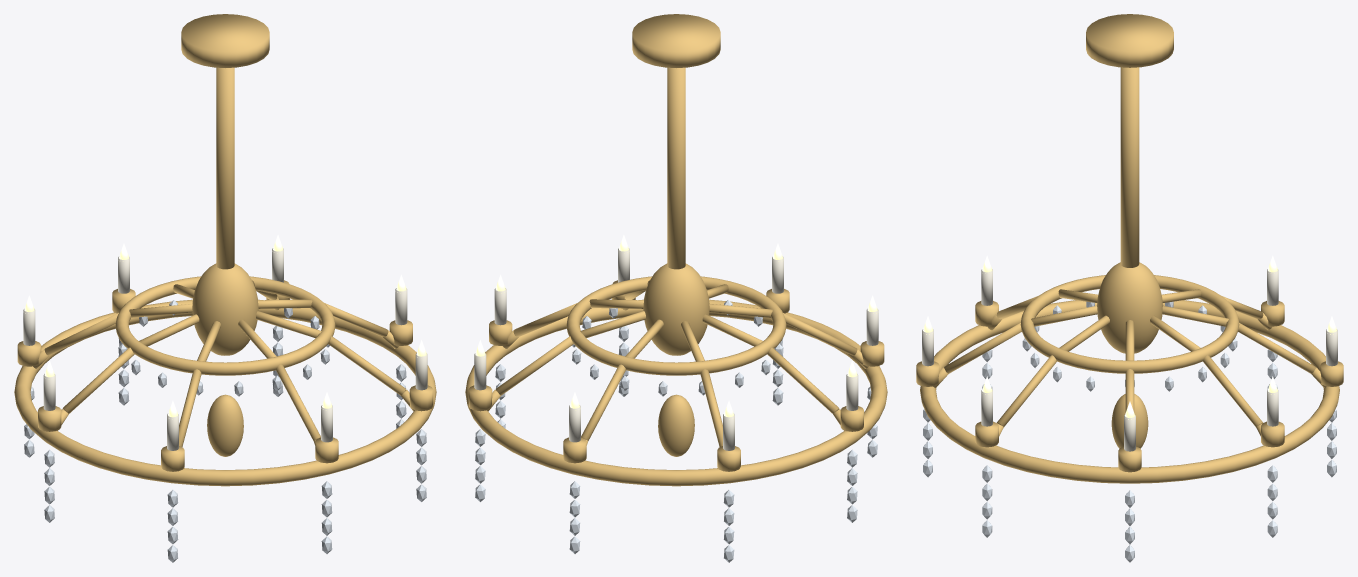
The model's file is chandelier.glb.
3 renders of one model, left to right at view 1: azimuth 30°, elevation 25°; view 2: azimuth 150°, elevation 25°; view 3: azimuth 270°, elevation 25°, orthographic.
Visible parts, largest first — view 1: ring, ring2, knob, canopy, stem, finial, arm2.007, arm2.004, arm2.006, arm2.003, arm2.005, arm1.007 (+8 smaller); view 2: ring, ring2, knob, canopy, stem, finial, arm2.001, arm2.004, arm2.002, arm2.005, arm2.003, arm1.001 (+8 smaller); view 3: ring, ring2, knob, canopy, stem, finial, arm2.002, arm2.006, arm2.001, arm2.007, arm1.002, arm1.006 (+3 smaller).
Part boxes in pixels (bbox=[...]): ring: bbox=[14, 299, 436, 486]; ring2: bbox=[115, 276, 335, 375]; knob: bbox=[192, 263, 258, 355]; canopy: bbox=[181, 14, 269, 67]; stem: bbox=[216, 67, 234, 269]; finial: bbox=[207, 394, 243, 456]; arm2.007: bbox=[328, 336, 405, 395]; arm2.004: bbox=[62, 347, 134, 413]; arm2.006: bbox=[276, 364, 320, 440]; arm2.003: bbox=[44, 313, 118, 355]; arm2.005: bbox=[179, 369, 201, 446]; arm1.007: bbox=[256, 311, 321, 337]; ring: bbox=[465, 299, 887, 486]; ring2: bbox=[566, 276, 786, 375]; knob: bbox=[643, 263, 709, 355]; canopy: bbox=[632, 14, 720, 67]; stem: bbox=[667, 67, 685, 269]; finial: bbox=[658, 394, 694, 456]; arm2.001: bbox=[496, 336, 573, 395]; arm2.004: bbox=[767, 347, 839, 413]; arm2.002: bbox=[581, 364, 625, 440]; arm2.005: bbox=[783, 313, 857, 355]; arm2.003: bbox=[700, 369, 722, 446]; arm1.001: bbox=[580, 311, 645, 337]; ring: bbox=[920, 300, 1339, 483]; ring2: bbox=[1020, 275, 1239, 373]; knob: bbox=[1097, 262, 1162, 353]; canopy: bbox=[1086, 14, 1173, 67]; stem: bbox=[1120, 67, 1139, 267]; finial: bbox=[1111, 394, 1148, 448]; arm2.002: bbox=[1238, 322, 1315, 373]; arm2.006: bbox=[944, 322, 1021, 373]; arm2.001: bbox=[1203, 355, 1262, 427]; arm2.007: bbox=[997, 355, 1056, 427]; arm1.002: bbox=[1162, 305, 1228, 326]; arm1.006: bbox=[1031, 305, 1097, 326].
Size of what is drawn, in the model's own units: 1.16 by 1.34 by 1.16.
